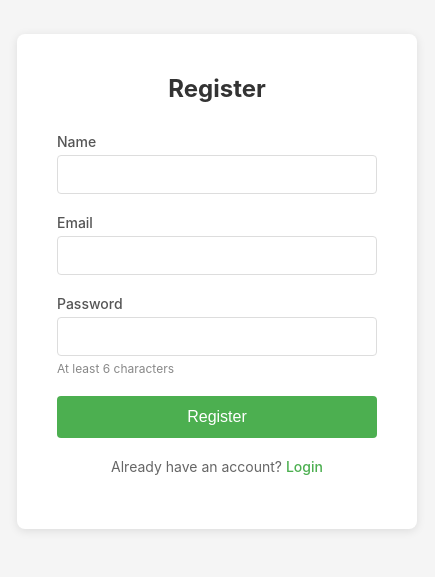
Test: Register Page › should show error for short password
Type "John Doe" into the field labelled "Name".
click(217, 174); type("John Doe")  # box [57, 154, 377, 194]
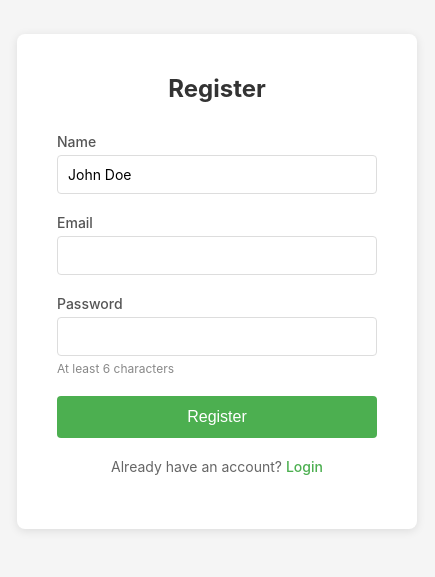
Type "test@test.com" into the field labelled "Email".
click(217, 255); type("test@test.com")  # box [57, 236, 377, 274]
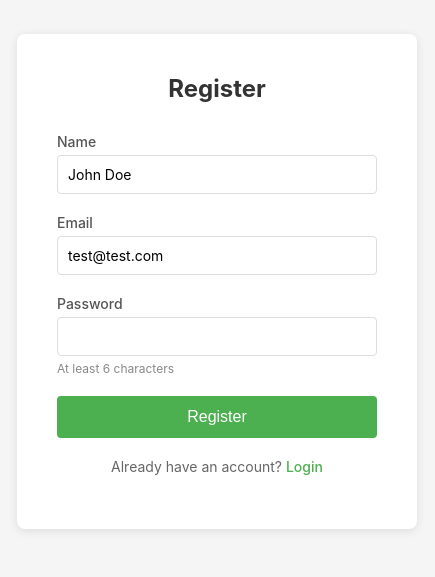
Type "12345" into the password field labelled "Password".
click(217, 336); type("12345")  # box [57, 316, 377, 356]
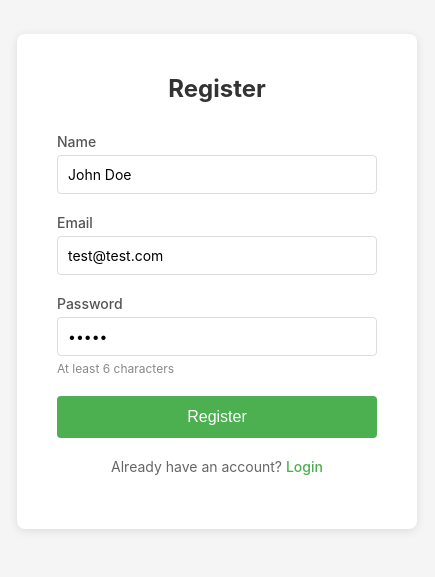
Click the button "Register".
click(217, 416)  # box [57, 396, 377, 438]
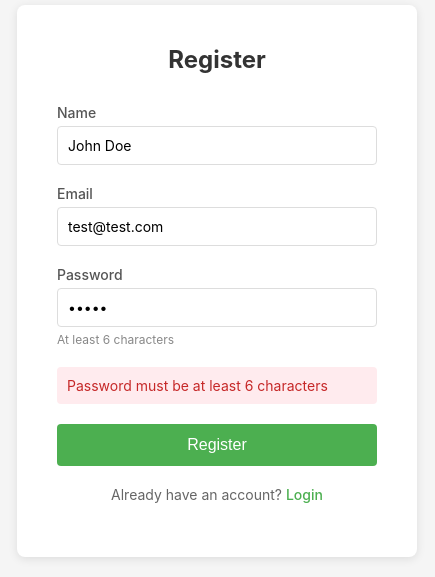
Check: the text "Password must be at least 6 characters" is shown, box [57, 367, 377, 404]
